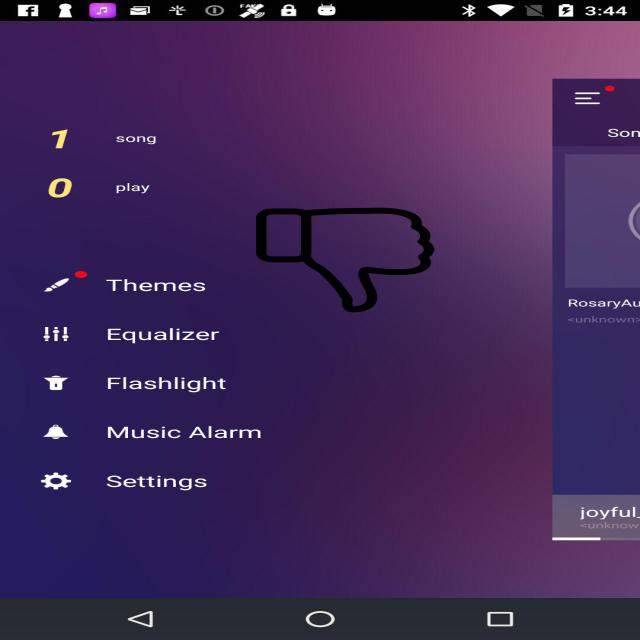obstruction: (254, 208, 436, 312)
